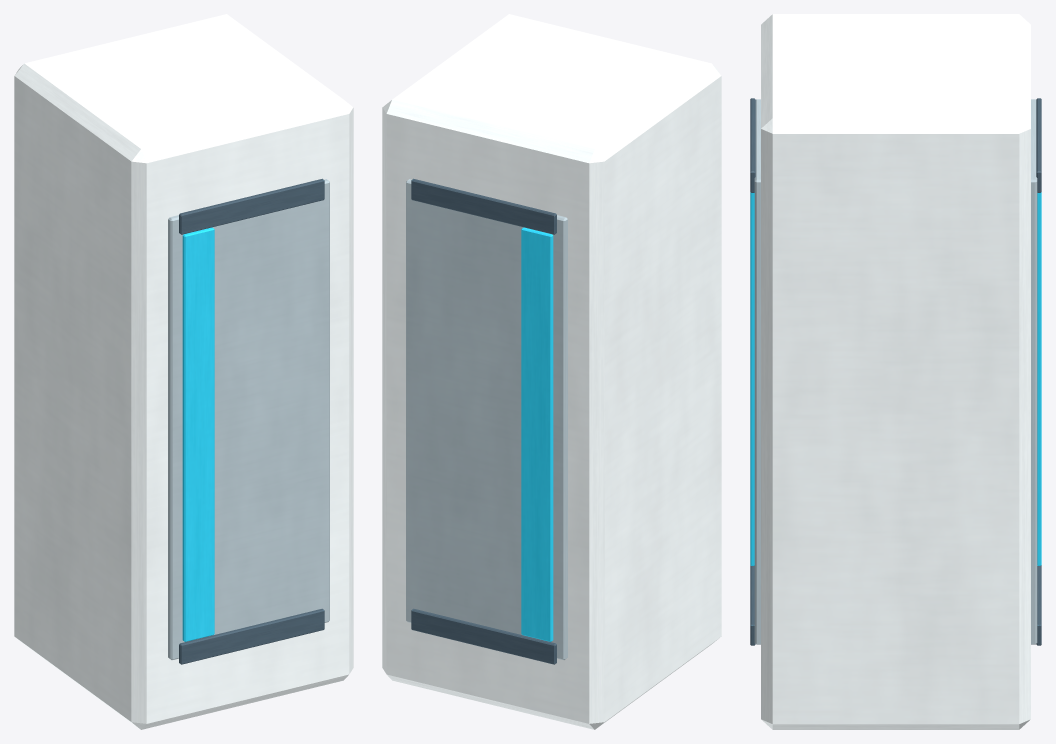
Rendered from support-pillar-2m.glb.
3 views of the same model, side by side, from view 1: azimuth 30°, elevation 25°; view 2: azimuth 150°, elevation 25°; view 3: azimuth 270°, elevation 25° (orthographic). The views are drawn at different scales.
Visible parts, largest first — view 1: support-pillar-2m; view 2: support-pillar-2m; view 3: support-pillar-2m.
Part boxes in pixels (<box>): support-pillar-2m: <box>14,14,353,729</box>; support-pillar-2m: <box>382,14,721,729</box>; support-pillar-2m: <box>750,14,1041,729</box>.
Bounding box in the file's own units: 0.8 × 2 × 0.864.
Materials: 1 (1 with a texture image).
